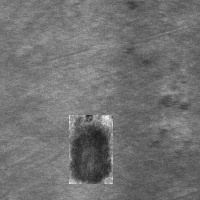patches: (69, 115, 113, 184)
rolled-in_scale: (149, 87, 190, 156)
